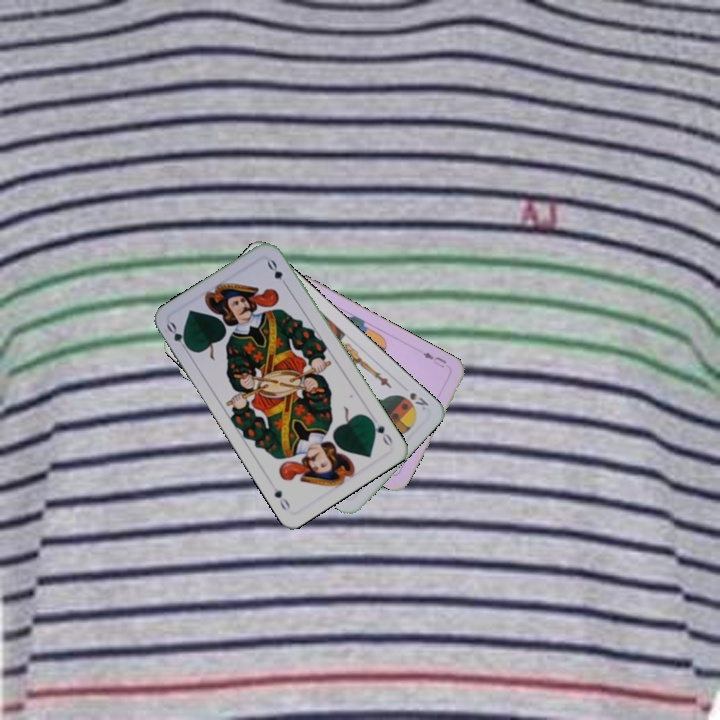EU: (419, 348, 449, 371)
GO: (162, 318, 194, 355), (365, 414, 395, 449)
SK: (405, 388, 431, 413)
